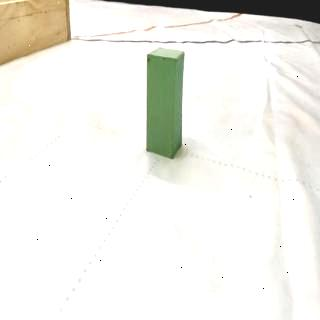greenbox: (146, 44, 186, 160)
